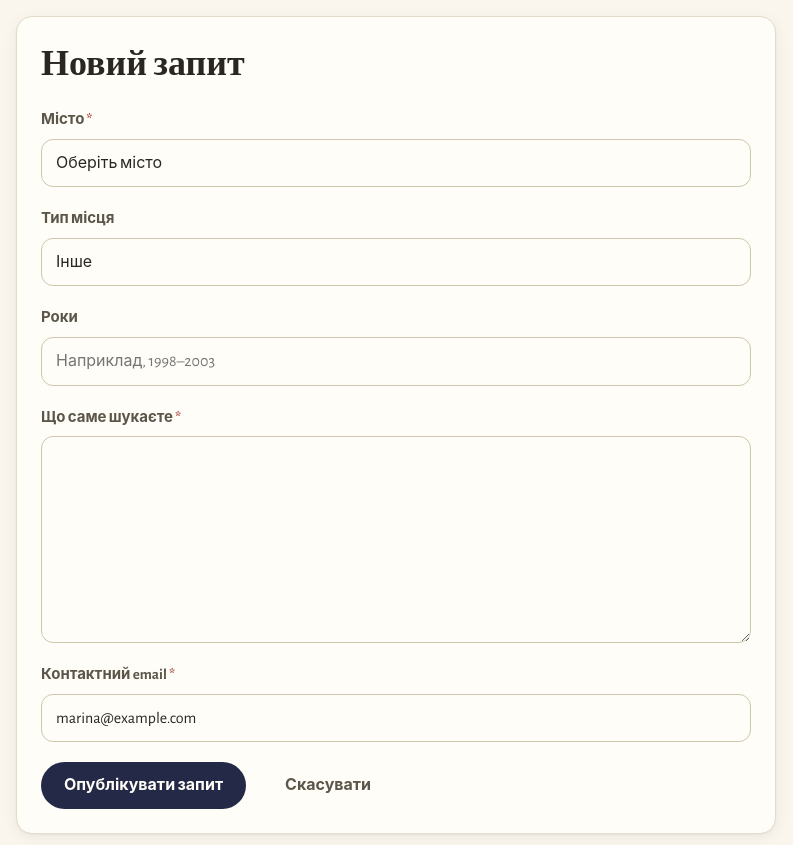
Scenario: LostNewPage › blocks submission and shows inline per-field messages when city, description, and contact email are blank
clear the pre-filled contact email so the form is fully blank
Clear the field labelled "Контактний email *". click: (396, 718)
box: left=41, top=694, right=751, bottom=742
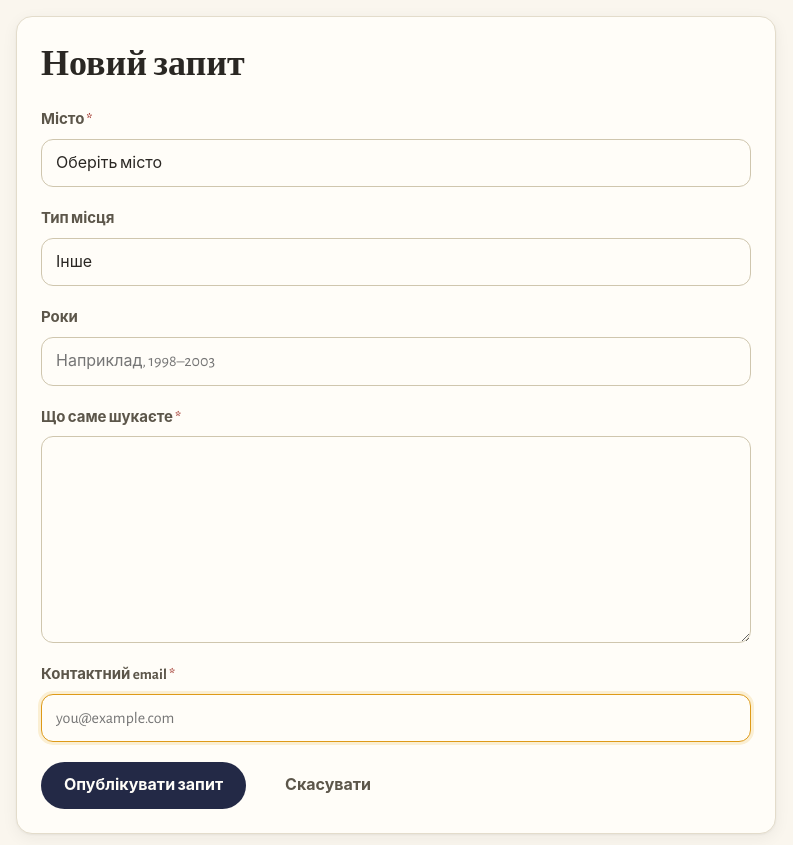
Click the button "Опублікувати запит". click: (144, 785)
box: left=41, top=762, right=246, bottom=809
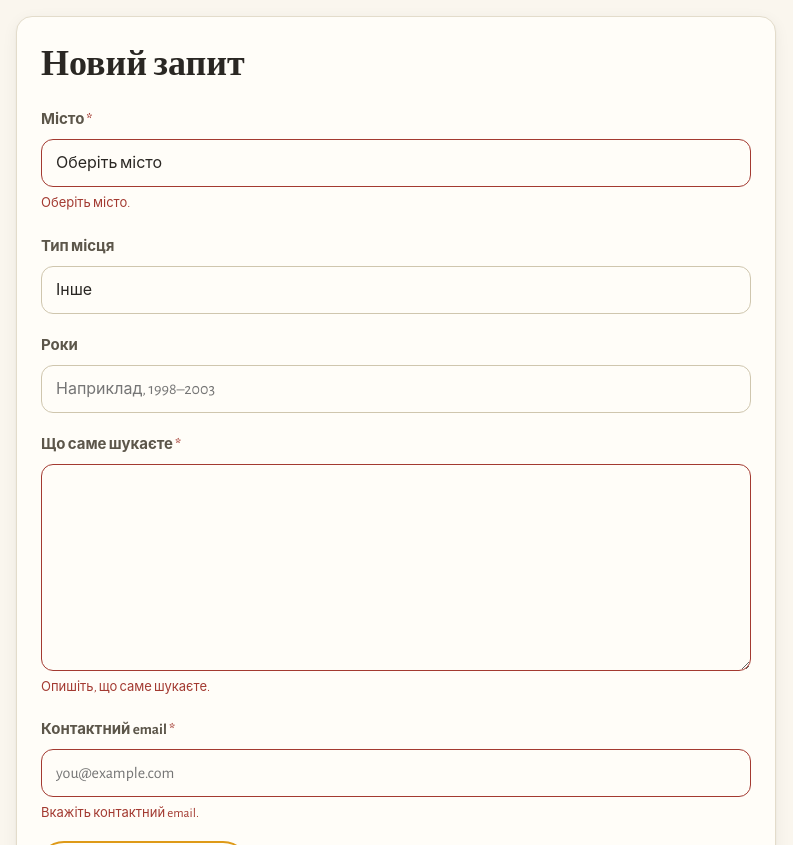
Result: the text "Оберіть місто." is shown at left=41, top=197, right=130, bottom=210
Result: the text "Опишіть, що саме шукаєте." is shown at left=41, top=680, right=210, bottom=694
Result: the text "Вкажіть контактний email." is shown at left=41, top=807, right=199, bottom=820
